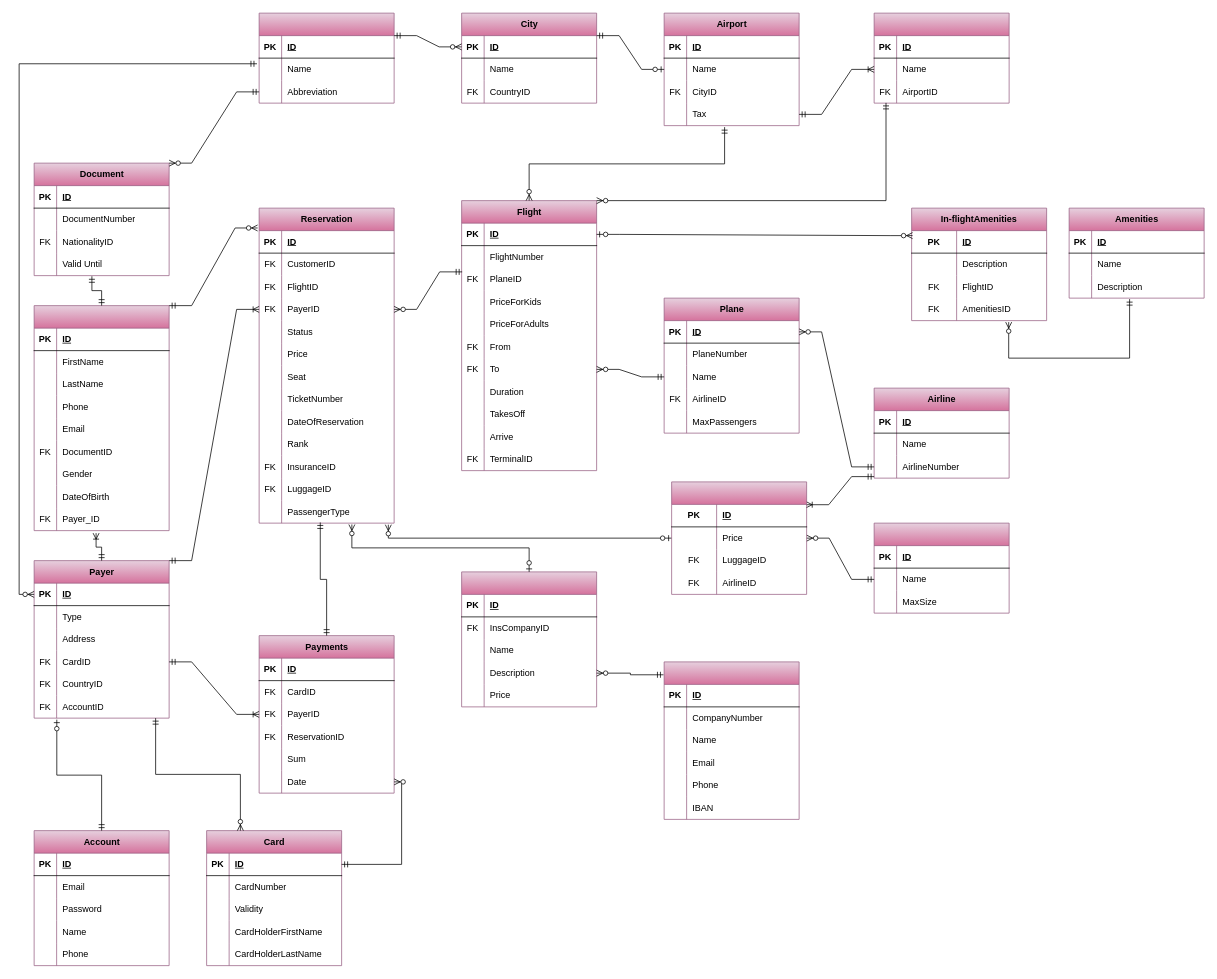
The diagram is 1217 pixels wide and 979 high, and some of its shapes have lost their labels. The box of each missing label's shape, as (x1, y1, x2, y2) in pixels:
AirlineLuggagePrice: (671, 481, 807, 594)
Country: (258, 12, 394, 103)
Customer: (33, 305, 169, 531)
Insurance: (461, 571, 597, 707)
InsuranceCompany: (663, 661, 799, 819)
Luggage: (873, 522, 1009, 613)
Terminal: (873, 12, 1009, 103)
